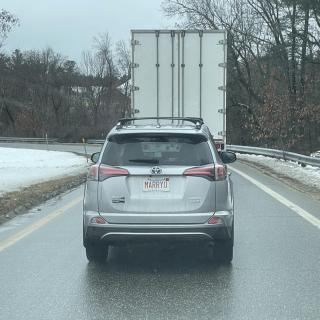license: (143, 177, 171, 193)
